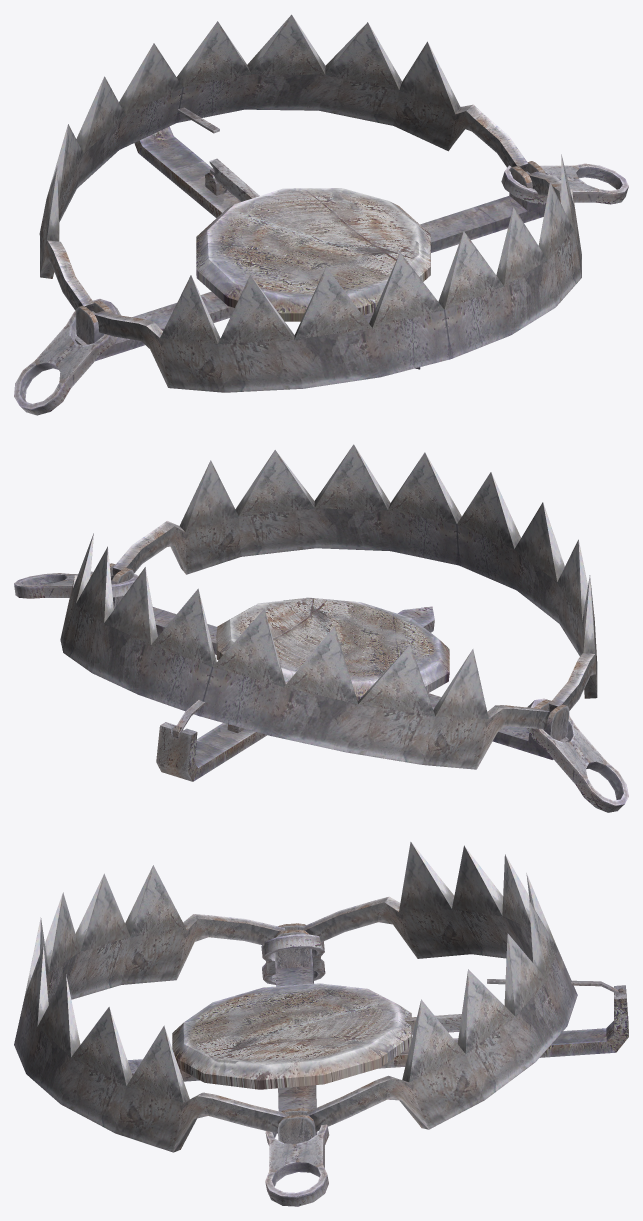
The picture shows the model from 3 angles, top to bottom: view 1: azimuth 30°, elevation 25°; view 2: azimuth 150°, elevation 25°; view 3: azimuth 270°, elevation 25°; orthographic projection. The views are drawn at different scales.
Parts seen in each view (by area): view 1: Trap_LeftSide, Trap_RightSide, Trap_Center, Trap_Cross, Trap_1, Trap_4; view 2: Trap_RightSide, Trap_LeftSide, Trap_Center, Trap_Cross, Trap_1; view 3: Trap_RightSide, Trap_LeftSide, Trap_Center, Trap_Cross, Trap_1.
Part boxes in pixels (x1,y1,x2,y2): Trap_LeftSide: (94,154,581,392); Trap_RightSide: (39,14,528,311); Trap_Center: (196,188,430,321); Trap_Cross: (75,126,545,369); Trap_1: (14,163,628,415); Trap_4: (209,158,259,201); Trap_RightSide: (60,533,550,769); Trap_LeftSide: (113,444,597,711); Trap_Center: (216,597,449,701); Trap_Cross: (109,563,569,781); Trap_1: (14,573,628,812); Trap_RightSide: (303,842,577,1131); Trap_LeftSide: (14,865,288,1152); Trap_Center: (172,983,411,1089); Trap_Cross: (127,923,628,1143); Trap_1: (261,934,329,1206).
Bounding box in the file's own units: 146 × 53.34 × 125.
1 material, 1 textured.
